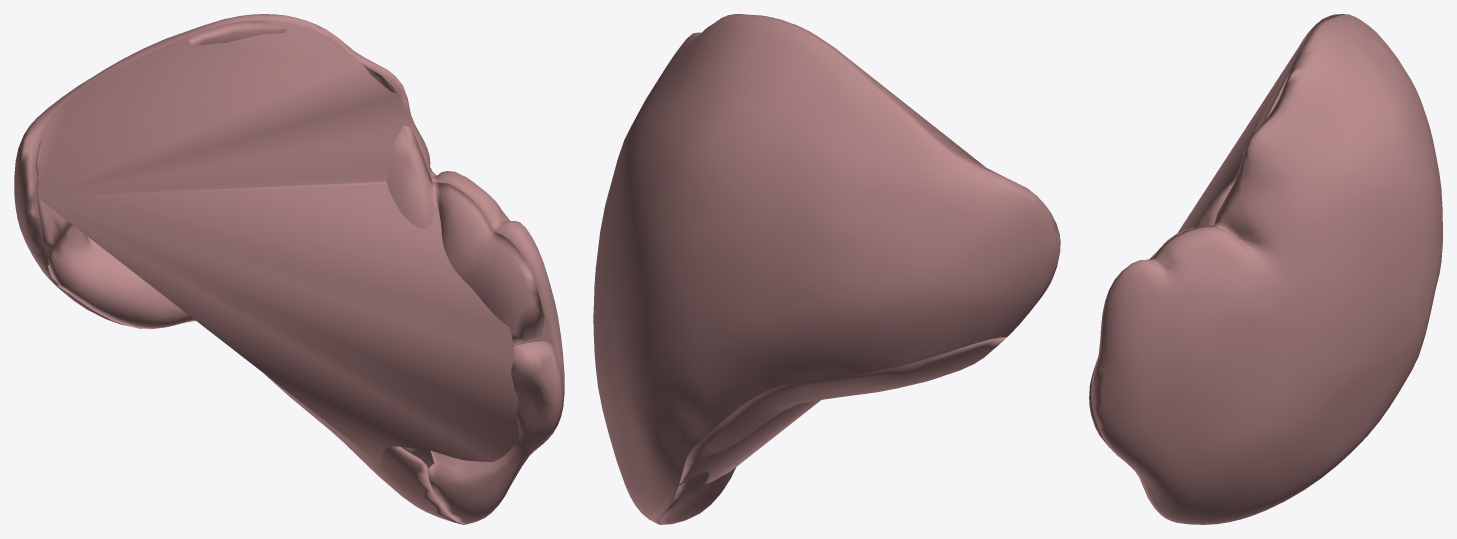
Rendered from vh_m_spleen-40.glb.
The picture shows the model from 3 angles, left to right: view 1: azimuth 30°, elevation 25°; view 2: azimuth 150°, elevation 25°; view 3: azimuth 270°, elevation 25°; orthographic projection. The views are drawn at different scales.
Visible parts, largest first — view 1: VH_M_diaphragmatic_surface_of_spleen, VH_M_gastric_surface_of_spleen, VH_M_colic_surface_of_spleen, VH_M_hilum_of_spleen, VH_M_renal_surface_of_spleen; view 2: VH_M_diaphragmatic_surface_of_spleen, VH_M_renal_surface_of_spleen; view 3: VH_M_diaphragmatic_surface_of_spleen, VH_M_gastric_surface_of_spleen.
Boxes of the visible parts, x1,y1,x2,y2 form: VH_M_diaphragmatic_surface_of_spleen: (14, 14, 564, 524); VH_M_gastric_surface_of_spleen: (35, 20, 544, 345); VH_M_colic_surface_of_spleen: (427, 341, 564, 524); VH_M_hilum_of_spleen: (47, 224, 418, 452); VH_M_renal_surface_of_spleen: (51, 281, 462, 524); VH_M_diaphragmatic_surface_of_spleen: (593, 14, 1060, 524); VH_M_renal_surface_of_spleen: (658, 336, 1007, 524); VH_M_diaphragmatic_surface_of_spleen: (1092, 14, 1442, 524); VH_M_gastric_surface_of_spleen: (1100, 17, 1329, 331).
Bounding box in the file's own units: 0.1104 × 0.1186 × 0.0886.
